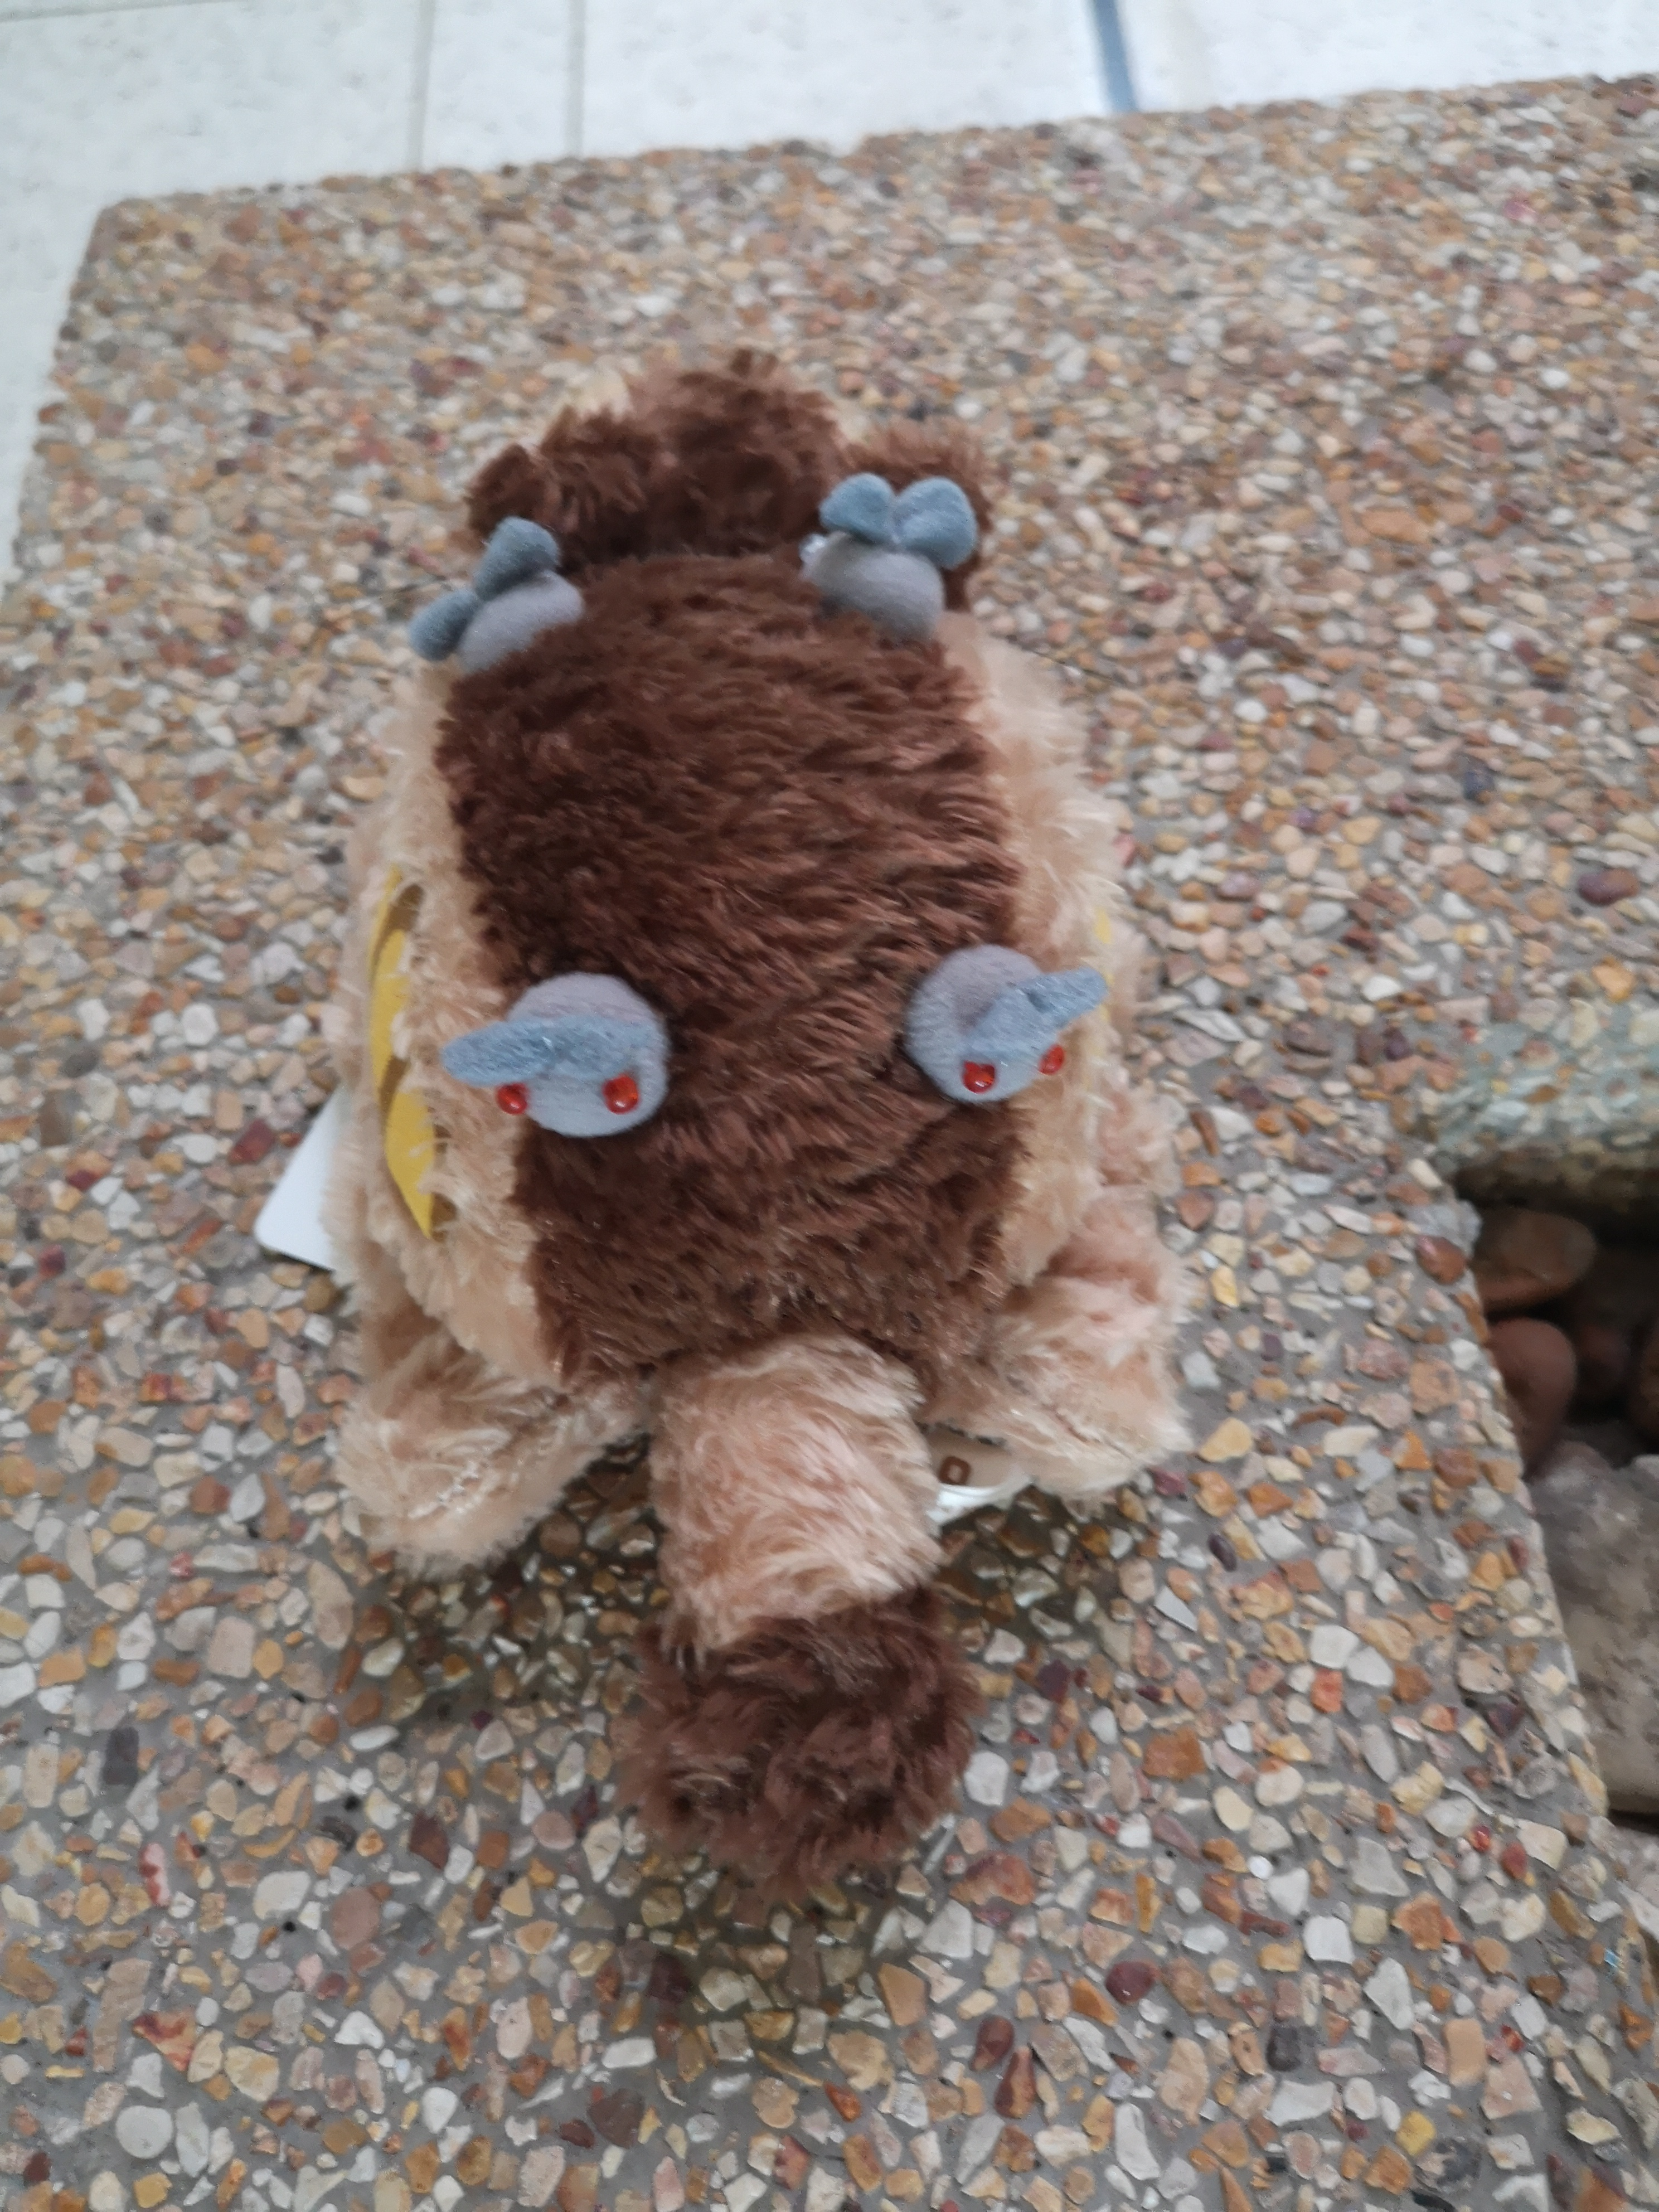nekobus: (281, 333, 1202, 1919)
